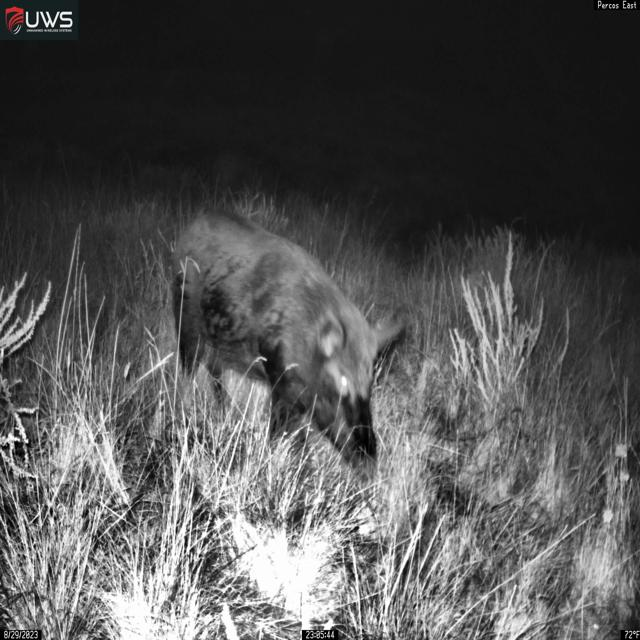pig: (170, 209, 408, 484)
